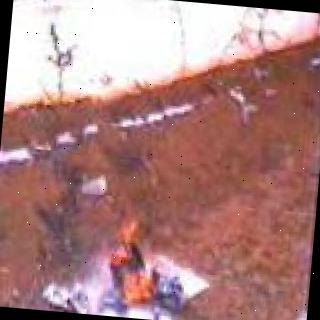fire: (96, 214, 186, 310)
